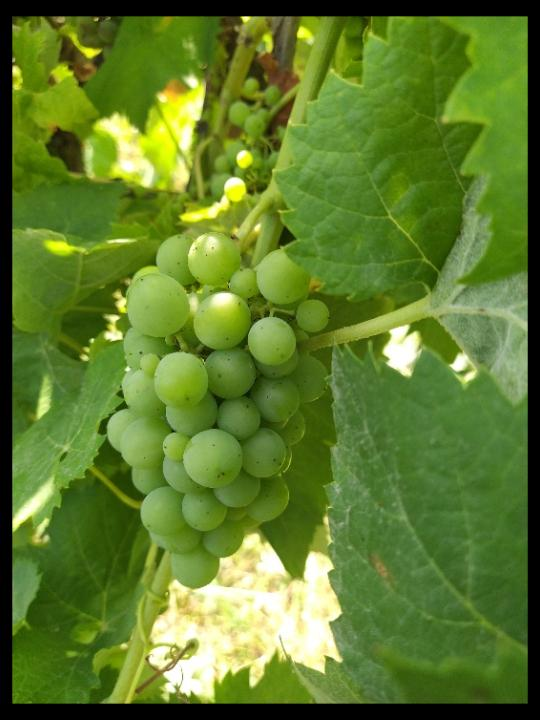grape: (105, 228, 327, 586)
